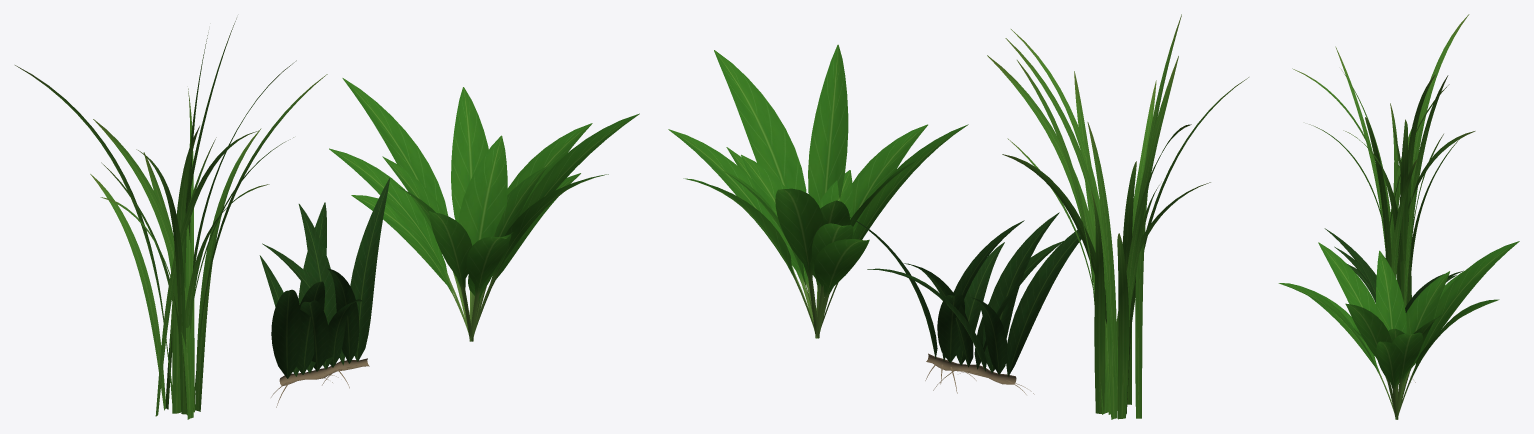
File: aquarium-plants.glb
The picture shows the model from 3 angles, left to right: view 1: azimuth 30°, elevation 25°; view 2: azimuth 150°, elevation 25°; view 3: azimuth 270°, elevation 25°; orthographic projection. The views are drawn at different scales.
Parts seen in each view (by area): view 1: plant_amazon_sword, plant_vallisneria, plant_java_fern; view 2: plant_amazon_sword, plant_vallisneria, plant_java_fern; view 3: plant_amazon_sword, plant_vallisneria, plant_java_fern.
Part boxes in pixels (left/top/right/bottom): plant_amazon_sword: left=329, top=78, right=639, bottom=341; plant_vallisneria: left=15, top=18, right=327, bottom=419; plant_java_fern: left=259, top=178, right=389, bottom=407; plant_amazon_sword: left=668, top=44, right=968, bottom=338; plant_vallisneria: left=987, top=14, right=1248, bottom=419; plant_java_fern: left=844, top=212, right=1081, bottom=394; plant_amazon_sword: left=1278, top=241, right=1519, bottom=419; plant_vallisneria: left=1292, top=14, right=1475, bottom=307; plant_java_fern: left=1324, top=228, right=1463, bottom=382.
Bounding box in the file's own units: 0.6298 × 0.4107 × 0.3236.
Materials: 4 (3 with a texture image).
